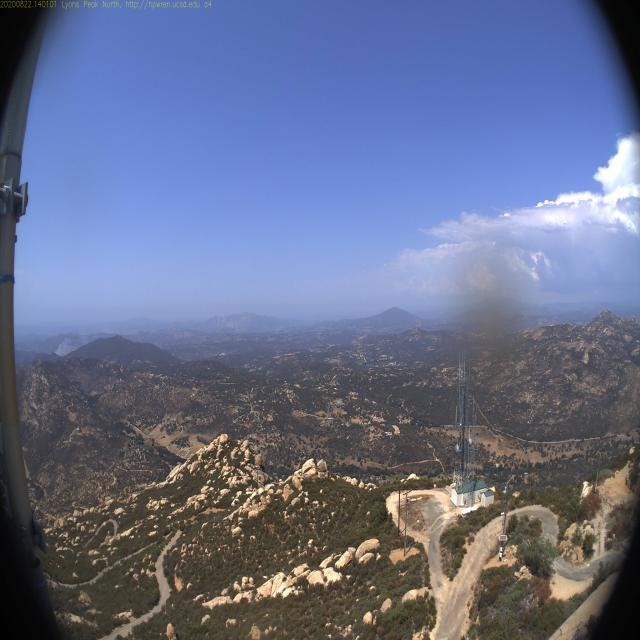smoke: (53, 326, 84, 362)
